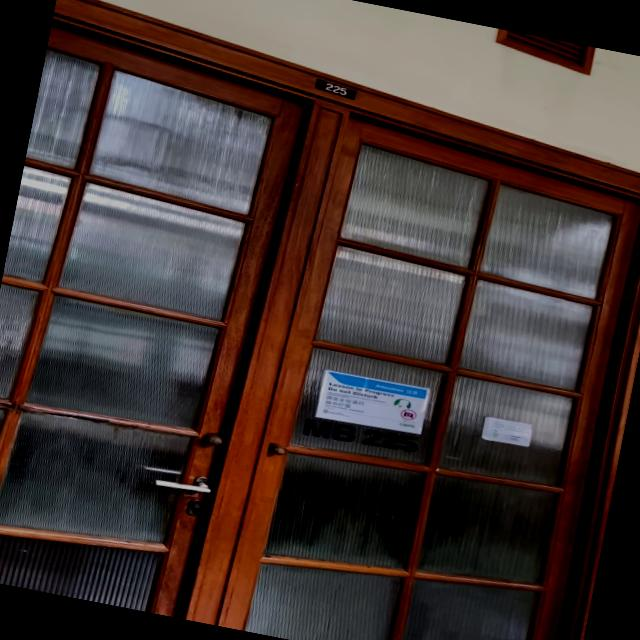room225: (313, 79, 363, 103)
room225Window: (296, 415, 424, 457)
